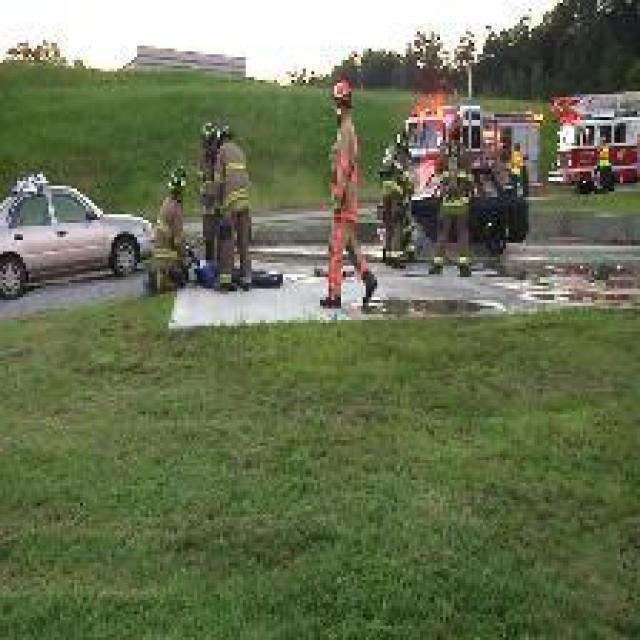other: (535, 76, 627, 182), (397, 82, 462, 185)
